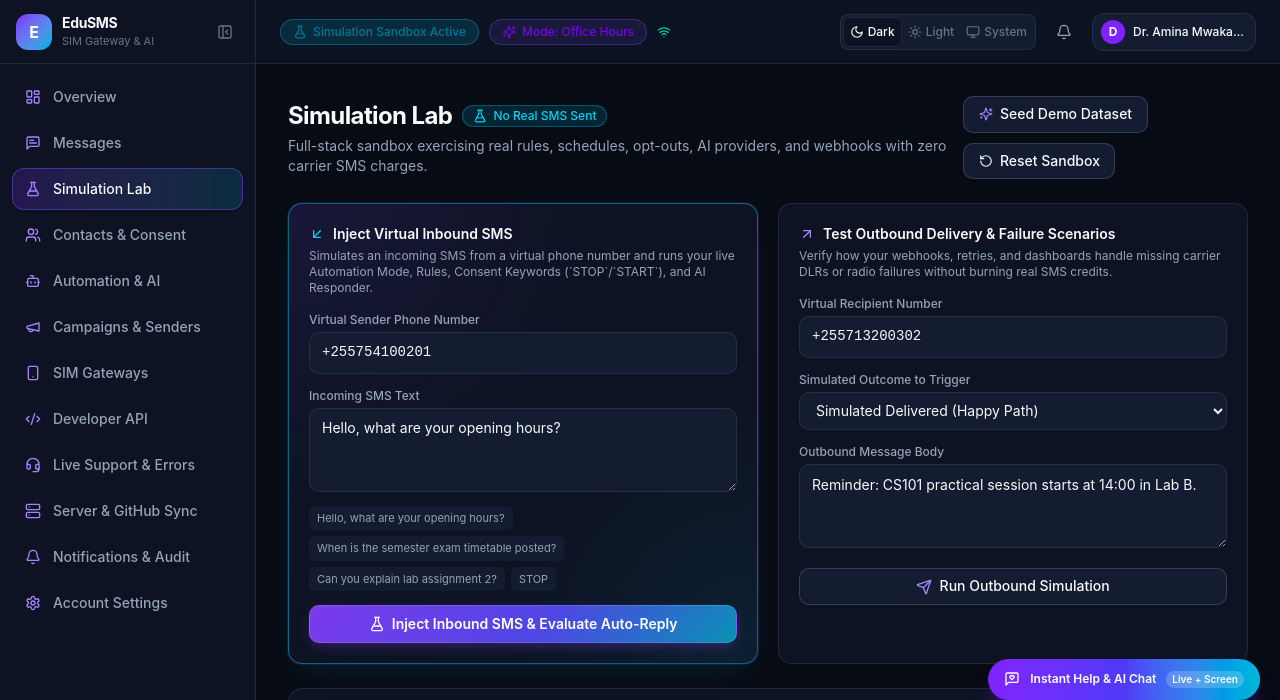
Test: Simulation Lab & Android SIM Gateway Pairing › injects virtual inbound SMS in Simulation Lab and displays auto-reply pipeline evaluation
This screenshot has width=1280, height=700.
Check: the heading "Simulation Lab" is shown, box [288, 100, 452, 132]
Check: the text "No Real SMS Sent" is shown, box [493, 108, 596, 124]
Click the button "Inject Inbound SMS & Evaluate Auto-Reply".
click(523, 624)  # box [309, 605, 737, 643]
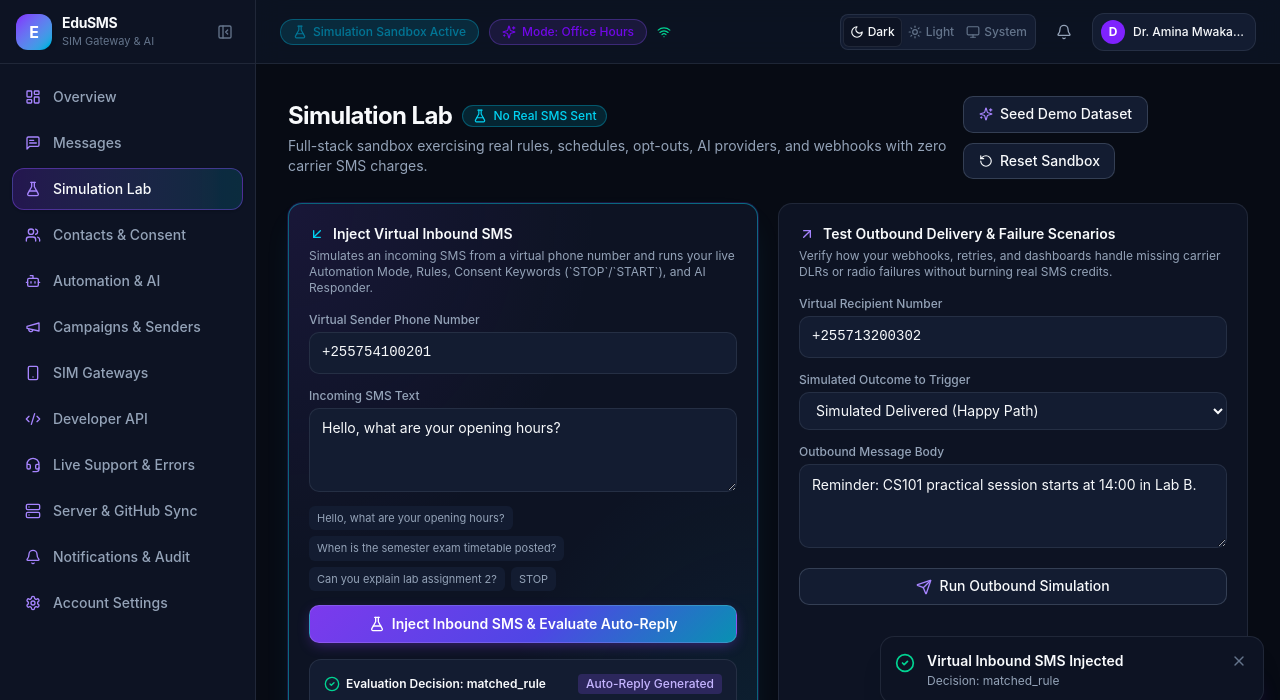
Check: the text "Evaluation Decision: matched_rule" is shown, box [346, 676, 546, 692]
Check: the text "Auto-Reply Generated" is shown, box [578, 674, 722, 694]
